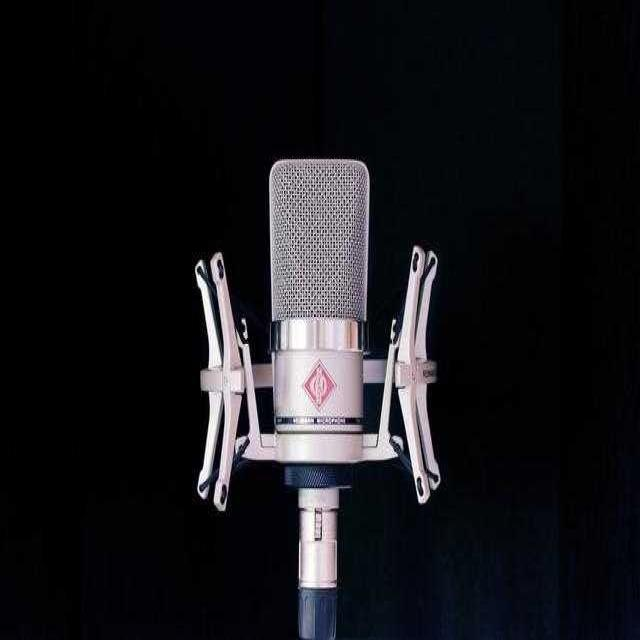microphone: (259, 148, 388, 482)
